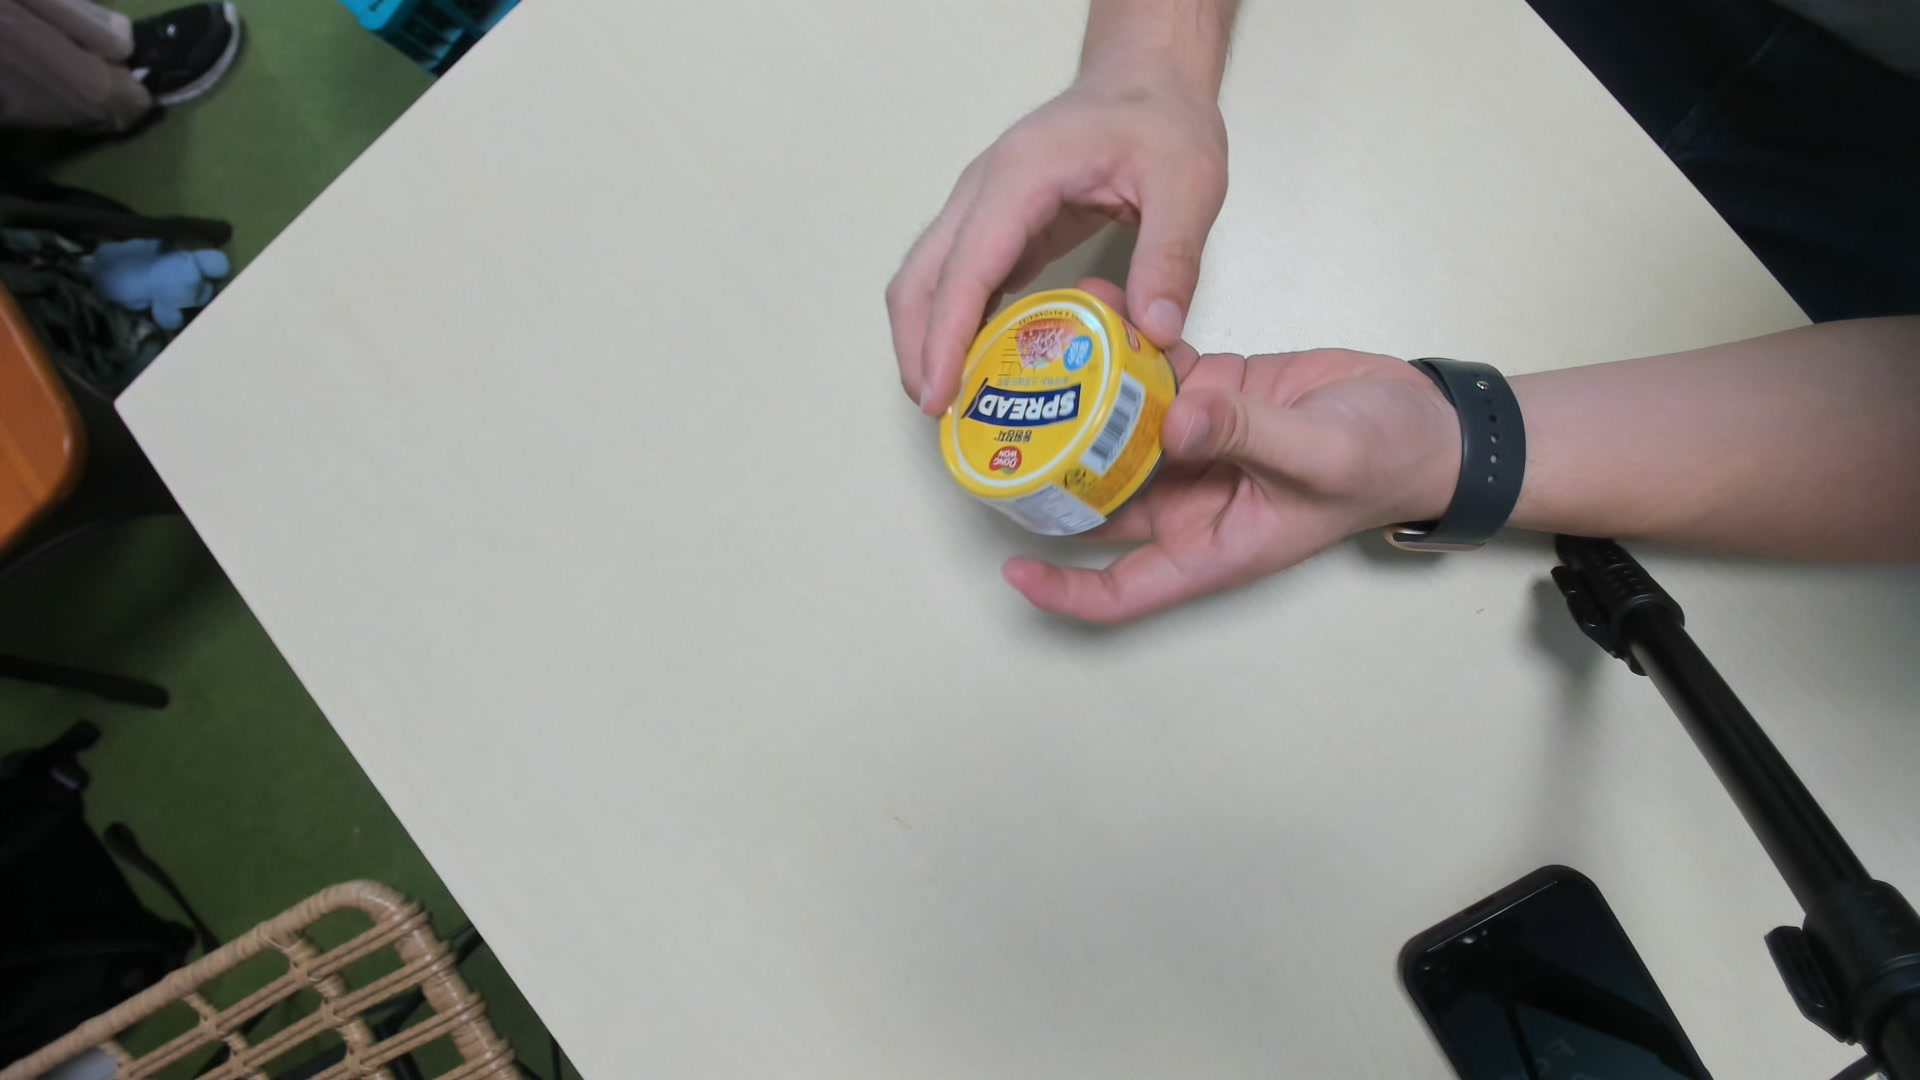OtherSauceDressing_0-99g_NonHalal_NonHealthy: (945, 285, 1179, 537)
